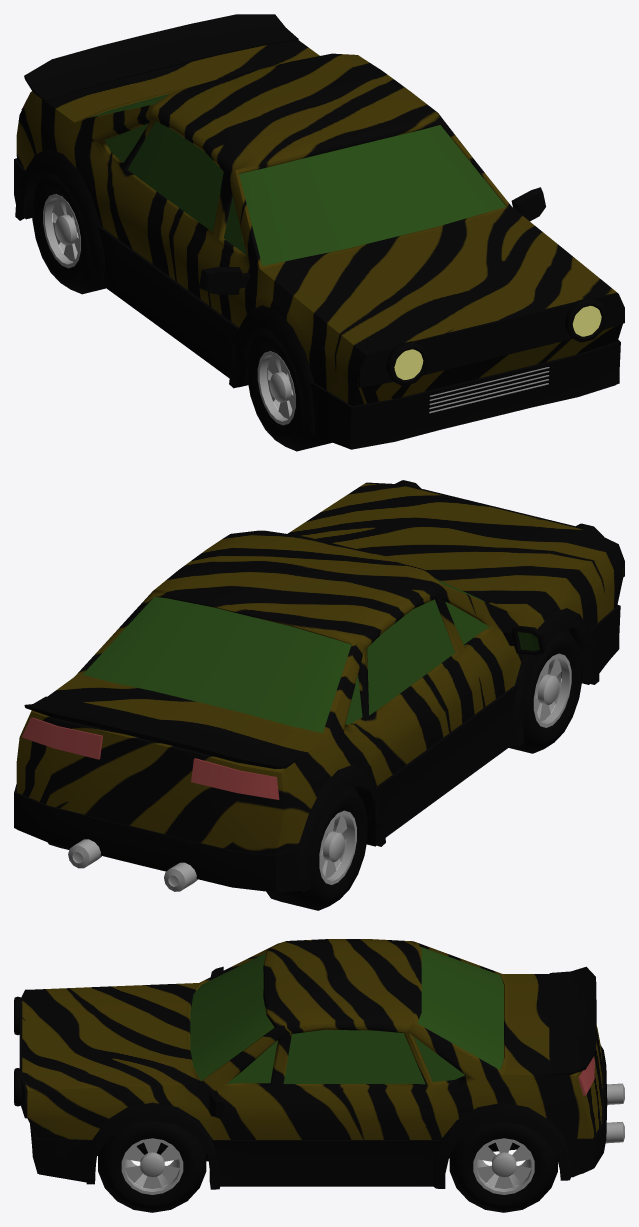
File: Muscle Evolution2 Black ZebraBlackDarkYellow DarkGreen LightGrey.glb
The picture shows the model from 3 angles, top to bottom: view 1: azimuth 30°, elevation 25°; view 2: azimuth 150°, elevation 25°; view 3: azimuth 270°, elevation 25°; orthographic projection. The views are drawn at different scales.
Visible parts, largest first — view 1: evo2_body2_f1_dupl, evo2_frontGlass_f1_dupl, evo2_sill2_f1_dupl, evo2_spoiler2_f1_dupl, evo2_front_square2_f1_dupl, evo2_glasseBigR_f1_dupl, evo2_mudguardFR_f1_dupl, evo2_mudguardbR_f1_dupl, evo2_tire_rf1_f1_dupl, evo2_tire_rf_f1_dupl, evo2_rim_A_rf_f1_dupl, evo2_rim_A_rb_f1_dupl (+9 smaller); view 2: evo2_body2_f1_dupl, evo2_BackGlassGlass_f1_dupl, evo2_sill2_f1_dupl, evo2_spoiler2_f1_dupl, evo2_glasseBigR_f1_dupl, evo2_tire_rf_f1_dupl, evo2_mudguardbR_f1_dupl, evo2_mudguardFR_f1_dupl, evo2_tire_rf1_f1_dupl, evo2_rim_A_rf_f1_dupl, evo2_rim_A_rb_f1_dupl, evo2_redlightR2_f1_dupl (+5 smaller); view 3: evo2_body2_f1_dupl, evo2_sill2_f1_dupl, evo2_BackGlassGlass_f1_dupl, evo2_glasseBigL_f1_dupl, evo2_frontGlass_f1_dupl, evo2_tire_lf_f1_dupl, evo2_tire_lb_f1_dupl, evo2_spoiler2_f1_dupl, evo2_mudguardBL_f1_dupl, evo2_mudguardFL_f1_dupl, evo2_rim_A_lf_f1_dupl, evo2_rim_A_lb_f1_dupl (+4 smaller).
Part boxes in pixels (bbox=[...]): evo2_body2_f1_dupl: bbox=[16, 40, 622, 405]; evo2_frontGlass_f1_dupl: bbox=[239, 125, 505, 265]; evo2_sill2_f1_dupl: bbox=[14, 158, 620, 449]; evo2_spoiler2_f1_dupl: bbox=[24, 14, 298, 101]; evo2_front_square2_f1_dupl: bbox=[358, 292, 624, 387]; evo2_glasseBigR_f1_dupl: bbox=[128, 121, 223, 231]; evo2_mudguardFR_f1_dupl: bbox=[229, 305, 314, 437]; evo2_mudguardbR_f1_dupl: bbox=[15, 148, 104, 286]; evo2_tire_rf1_f1_dupl: bbox=[247, 327, 331, 451]; evo2_tire_rf_f1_dupl: bbox=[32, 171, 105, 294]; evo2_rim_A_rf_f1_dupl: bbox=[257, 351, 295, 425]; evo2_rim_A_rb_f1_dupl: bbox=[43, 194, 80, 268]; evo2_body2_f1_dupl: bbox=[16, 483, 623, 855]; evo2_BackGlassGlass_f1_dupl: bbox=[83, 596, 351, 732]; evo2_sill2_f1_dupl: bbox=[14, 605, 620, 891]; evo2_spoiler2_f1_dupl: bbox=[24, 696, 298, 768]; evo2_glasseBigR_f1_dupl: bbox=[367, 599, 454, 715]; evo2_tire_rf_f1_dupl: bbox=[266, 787, 367, 910]; evo2_mudguardbR_f1_dupl: bbox=[299, 764, 385, 891]; evo2_mudguardFR_f1_dupl: bbox=[512, 608, 599, 746]; evo2_tire_rf1_f1_dupl: bbox=[509, 629, 582, 753]; evo2_rim_A_rf_f1_dupl: bbox=[533, 653, 571, 727]; evo2_rim_A_rb_f1_dupl: bbox=[319, 810, 356, 884]; evo2_redlightR2_f1_dupl: bbox=[191, 758, 279, 799]; evo2_body2_f1_dupl: bbox=[22, 939, 602, 1159]; evo2_sill2_f1_dupl: bbox=[30, 1045, 607, 1186]; evo2_BackGlassGlass_f1_dupl: bbox=[417, 946, 503, 1070]; evo2_glasseBigL_f1_dupl: bbox=[283, 1029, 425, 1084]; evo2_frontGlass_f1_dupl: bbox=[190, 953, 274, 1080]; evo2_tire_lf_f1_dupl: bbox=[98, 1120, 206, 1212]; evo2_tire_lb_f1_dupl: bbox=[449, 1122, 557, 1212]; evo2_spoiler2_f1_dupl: bbox=[549, 966, 596, 1074]; evo2_mudguardBL_f1_dupl: bbox=[433, 1102, 570, 1188]; evo2_mudguardFL_f1_dupl: bbox=[86, 1102, 220, 1189]; evo2_rim_A_lf_f1_dupl: bbox=[121, 1138, 183, 1194]; evo2_rim_A_lb_f1_dupl: bbox=[473, 1138, 534, 1194].
Size of the model in its own units: 177 by 112 by 331.
Materials: 7 (1 with a texture image).
